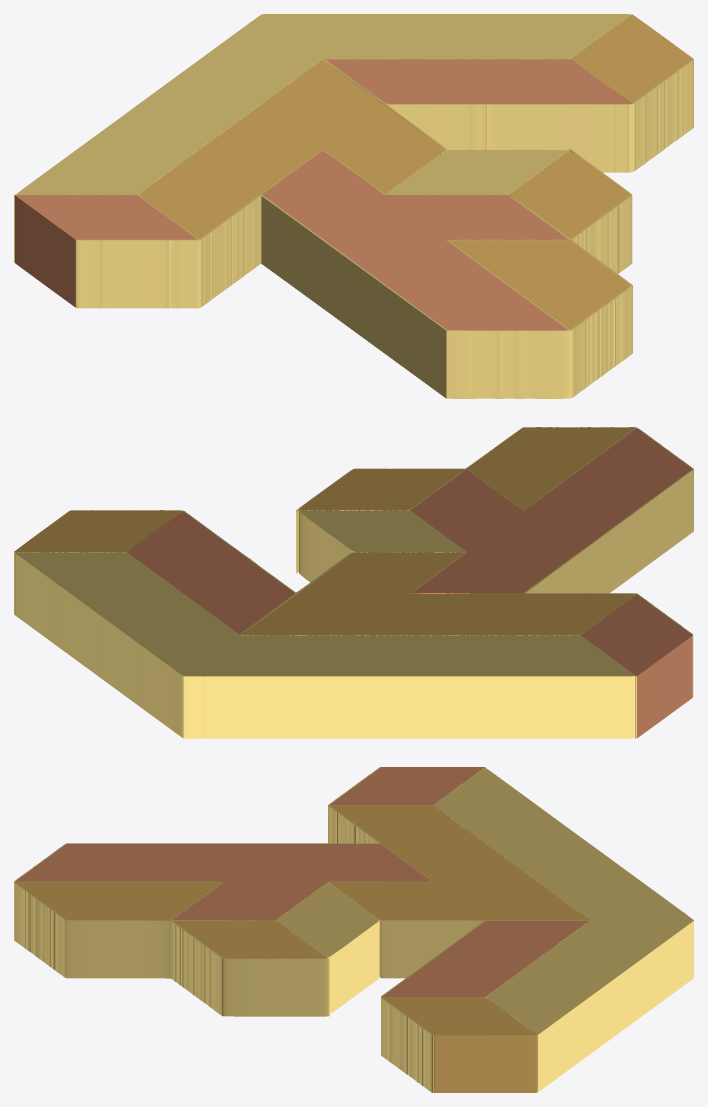
File: tensorflow-2.glb
3 views of the same model, one above another, from view 1: azimuth 30°, elevation 25°; view 2: azimuth 150°, elevation 25°; view 3: azimuth 270°, elevation 25° (orthographic). The views are drawn at different scales.
Visible parts, largest first — view 1: Node8, Node5, Node1, Node6, Node7, Node2, Node3, Node4; view 2: Node8, Node5, Node1, Node6, Node7, Node2, Node3, Node4; view 3: Node8, Node5, Node1, Node3, Node6, Node2, Node4, Node7.
Boxes of the visible parts, left/top/right/bottom form: Node8: left=14, top=14, right=693, bottom=398; Node5: left=262, top=150, right=568, bottom=330; Node1: left=138, top=59, right=445, bottom=238; Node6: left=325, top=59, right=630, bottom=103; Node7: left=15, top=195, right=196, bottom=307; Node2: left=448, top=240, right=630, bottom=329; Node3: left=571, top=14, right=693, bottom=103; Node4: left=509, top=150, right=630, bottom=238; Node8: left=14, top=427, right=693, bottom=738; Node5: left=411, top=428, right=691, bottom=593; Node1: left=241, top=552, right=634, bottom=635; Node6: left=127, top=511, right=294, bottom=634; Node7: left=581, top=594, right=692, bottom=737; Node2: left=467, top=427, right=634, bottom=509; Node3: left=14, top=511, right=181, bottom=614; Node4: left=298, top=469, right=463, bottom=572; Node8: left=14, top=767, right=693, bottom=1092; Node5: left=16, top=844, right=430, bottom=920; Node1: left=330, top=805, right=588, bottom=976; Node3: left=383, top=997, right=536, bottom=1092; Node6: left=382, top=921, right=588, bottom=997; Node2: left=15, top=882, right=221, bottom=920; Node4: left=173, top=920, right=326, bottom=958; Node7: left=330, top=767, right=484, bottom=804.
Size of what is drawn, in the model's own units: 100 by 10 by 107.
